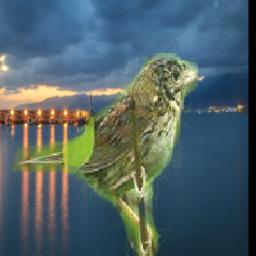Sparrow: (13, 54, 198, 256)
